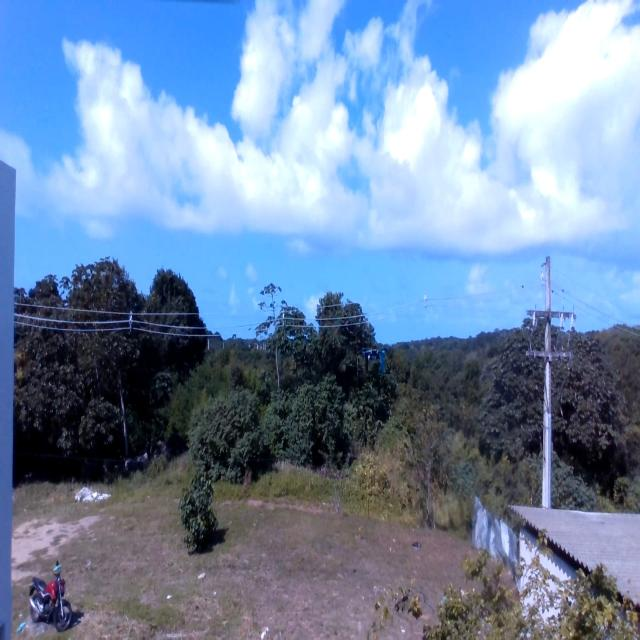-uav-: (355, 327, 395, 390)
